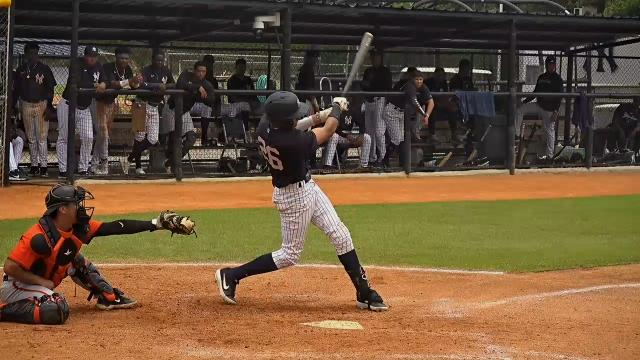baseball bat: (340, 31, 376, 97)
